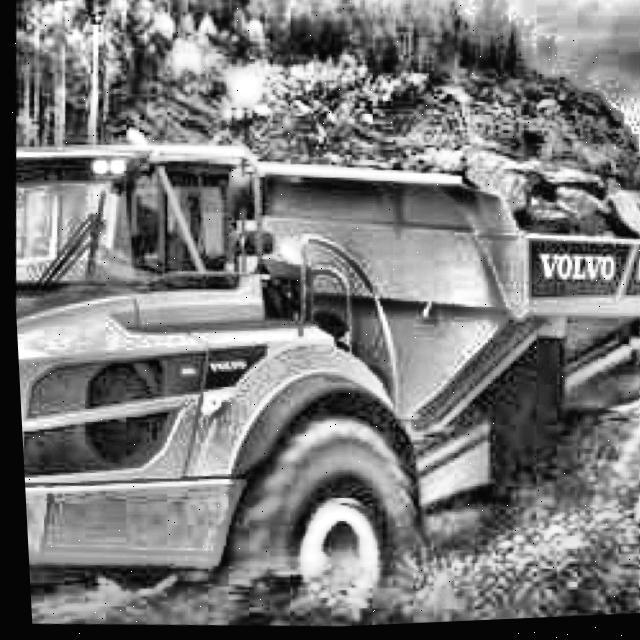dump_truck: (4, 77, 640, 640)
